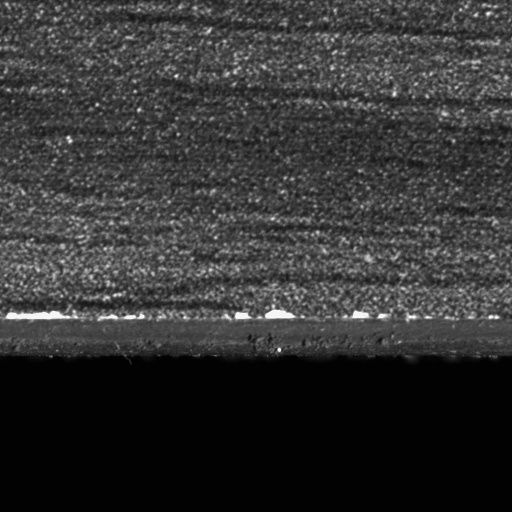huashang: (5, 309, 80, 322), (235, 309, 297, 321), (348, 309, 371, 319)
